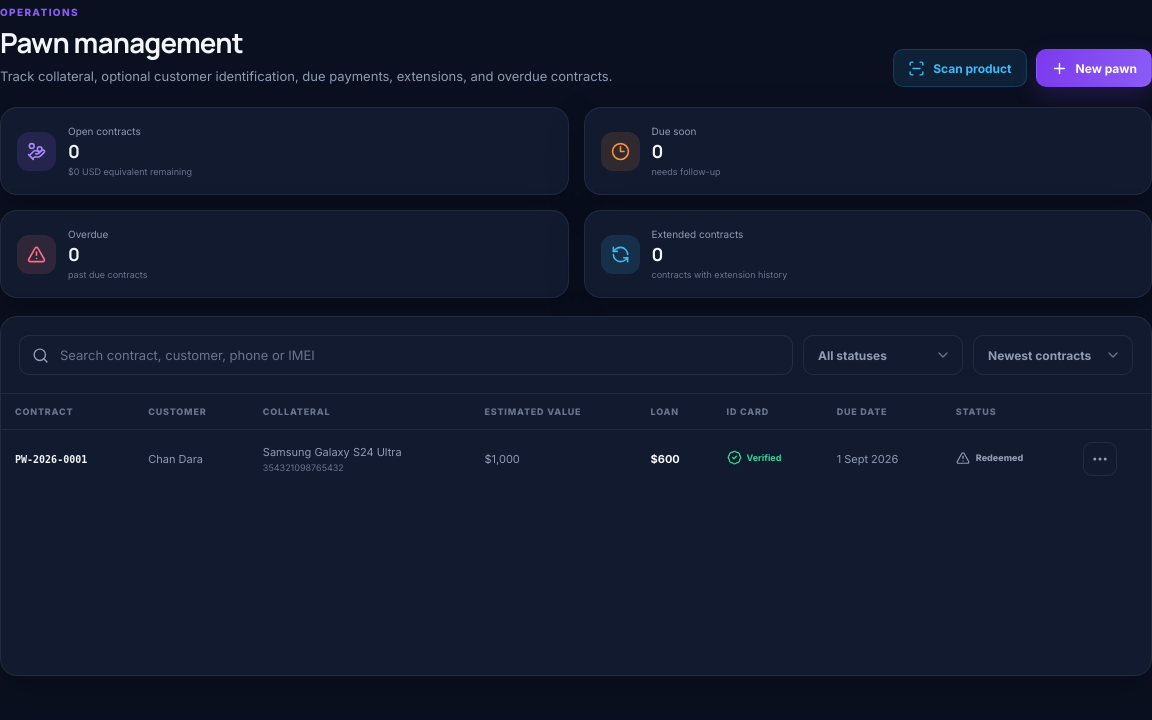
Test: PawnManagementPage feature integration › opens a fresh pawn form from a redeemed contract with its IMEI
Click the button named "View PW-2026-0001" at (1100, 459), box [1082, 442, 1116, 476]
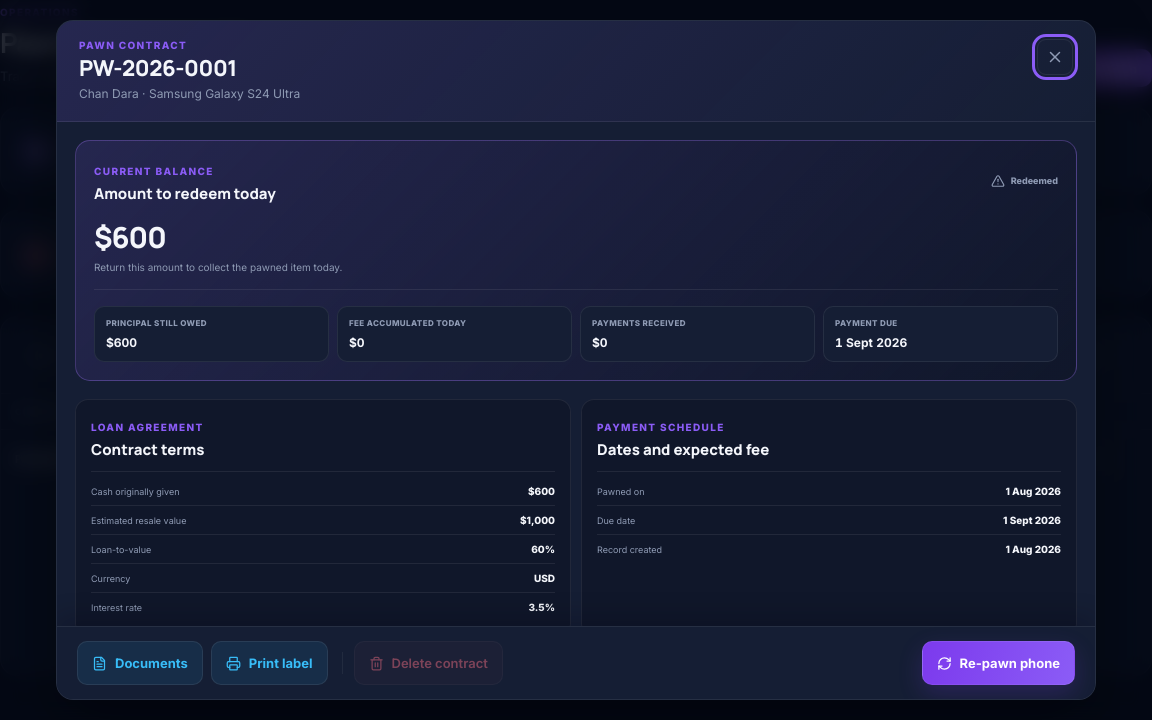
Click the button "Re-pawn phone" at (998, 663), box [922, 641, 1075, 685]
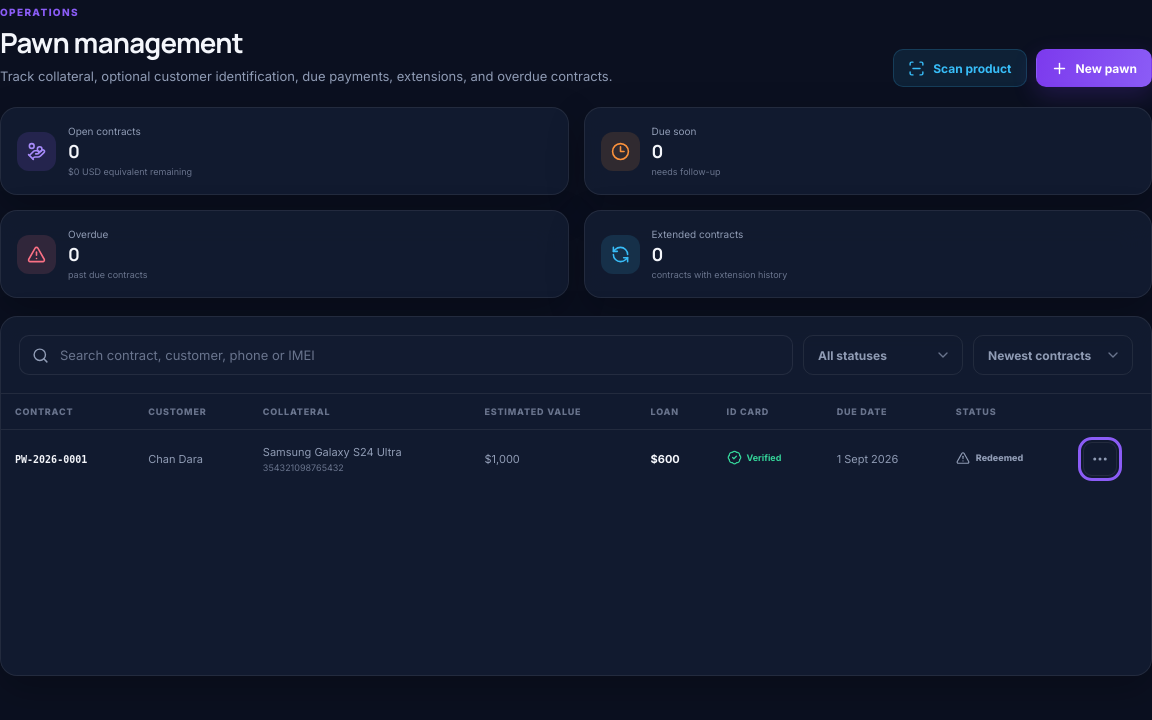
Expected: the dialog is gone
